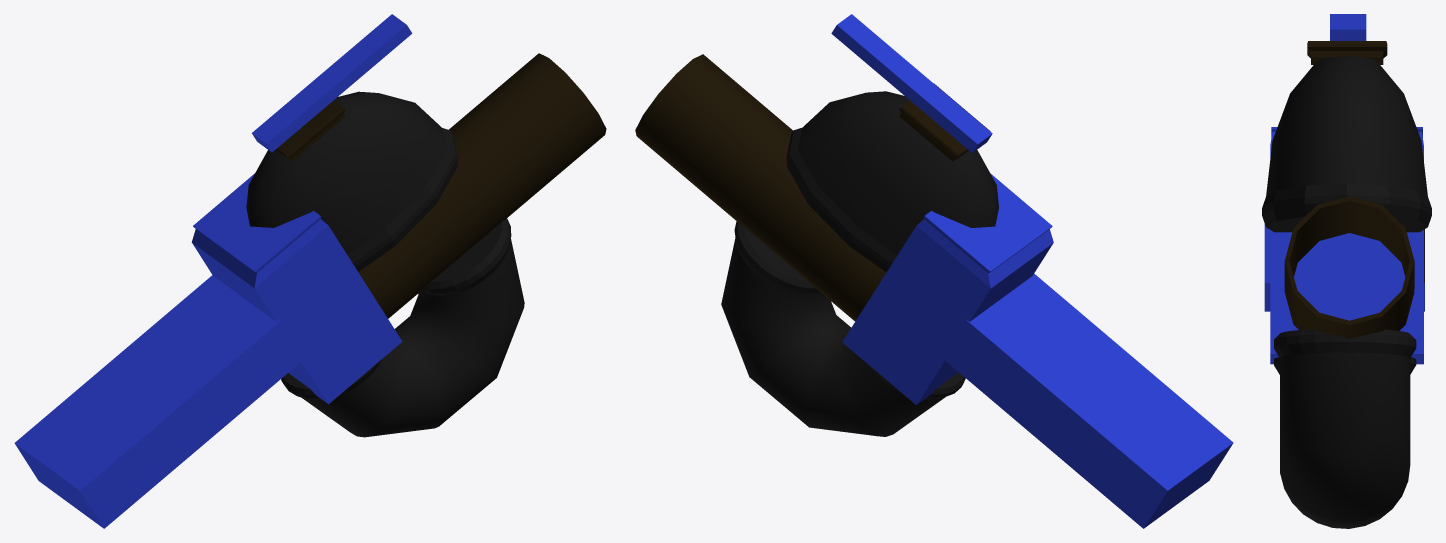
File: HamburgerTurret.FBX
3 views of the same model, side by side, from view 1: azimuth 30°, elevation 25°; view 2: azimuth 150°, elevation 25°; view 3: azimuth 270°, elevation 25° (orthographic). The views are drawn at different scales.
Parts seen in each view (by area): view 1: OilTank002; view 2: OilTank002; view 3: OilTank002.
Boxes of the visible parts, x1,y1,x2,y2 form: OilTank002: [14, 14, 606, 528]; OilTank002: [635, 14, 1233, 528]; OilTank002: [1262, 14, 1431, 528].
Size of the model in its own units: 124 by 88.52 by 27.22.
